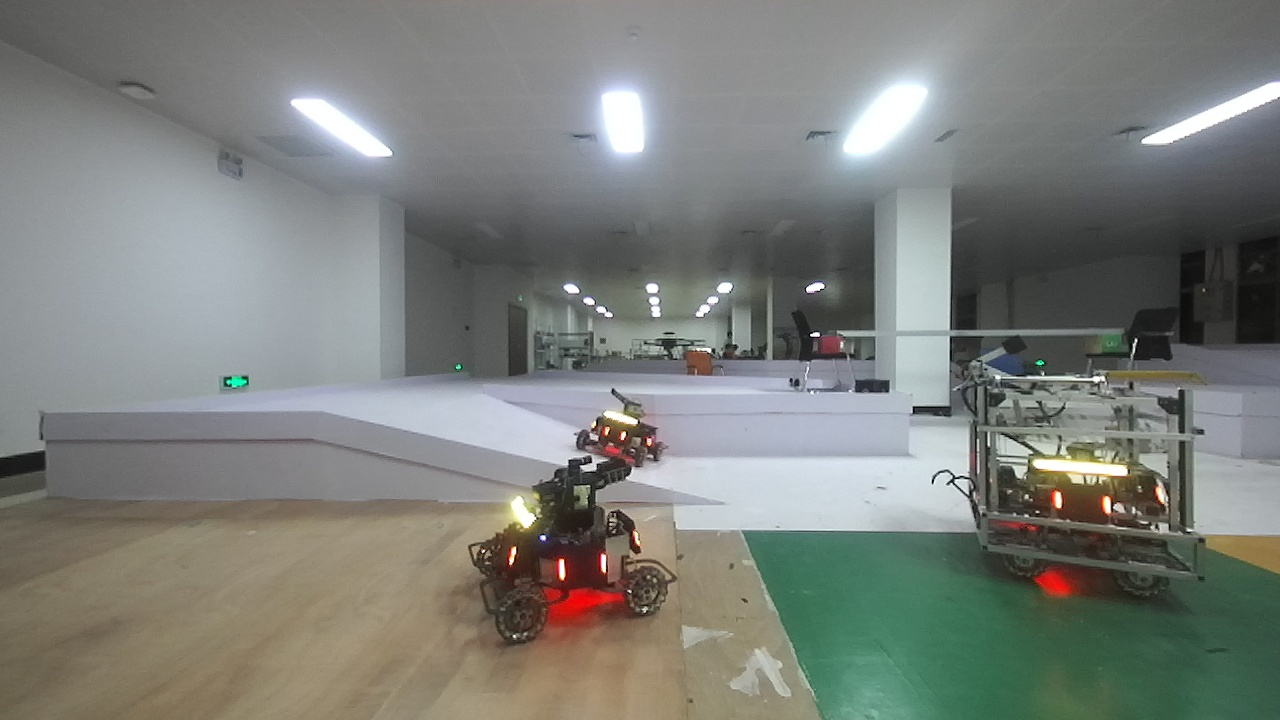car: (946, 349, 1215, 616), (476, 452, 682, 652), (570, 383, 674, 466)
